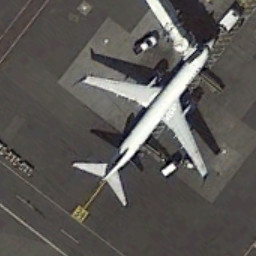Airplane: (64, 26, 222, 220)
